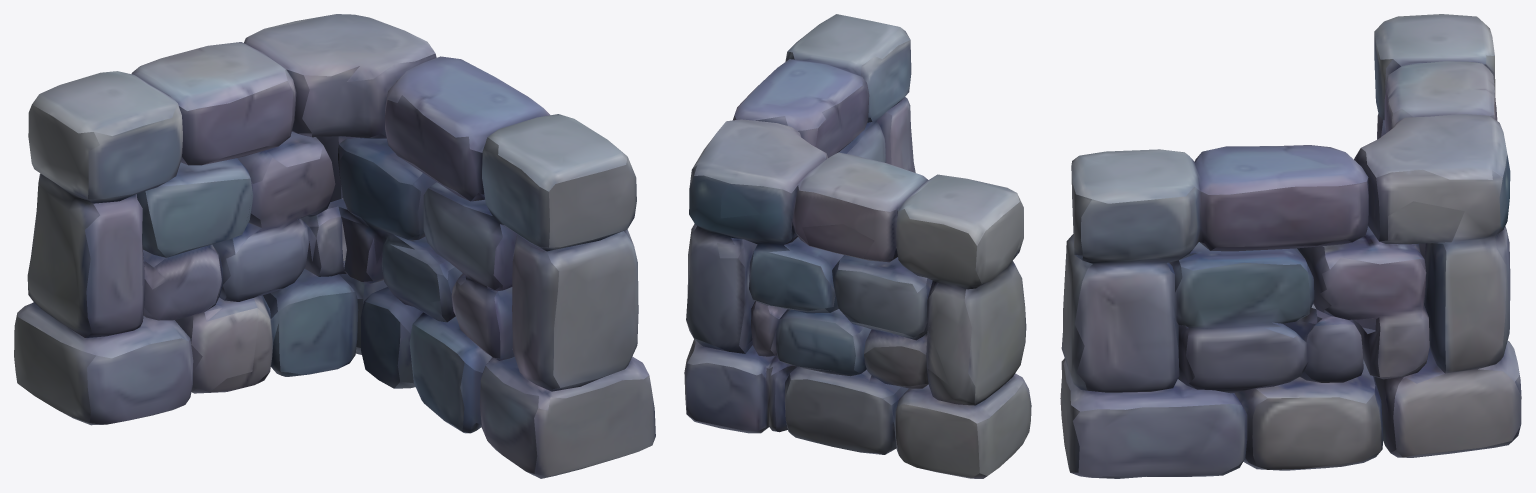
The model's file is ENV-07.glb.
The picture shows the model from 3 angles, left to right: view 1: azimuth 30°, elevation 25°; view 2: azimuth 150°, elevation 25°; view 3: azimuth 270°, elevation 25°; orthographic projection. The views are drawn at different scales.
Visible parts, largest first — view 1: ENV-07; view 2: ENV-07; view 3: ENV-07.
Boxes of the visible parts, left/top/right/bottom form: ENV-07: left=14, top=14, right=655, bottom=478; ENV-07: left=684, top=14, right=1031, bottom=478; ENV-07: left=1060, top=14, right=1521, bottom=478.
Bounding box in the file's own units: 0.8 × 0.55 × 0.8.
1 material, 1 textured.
